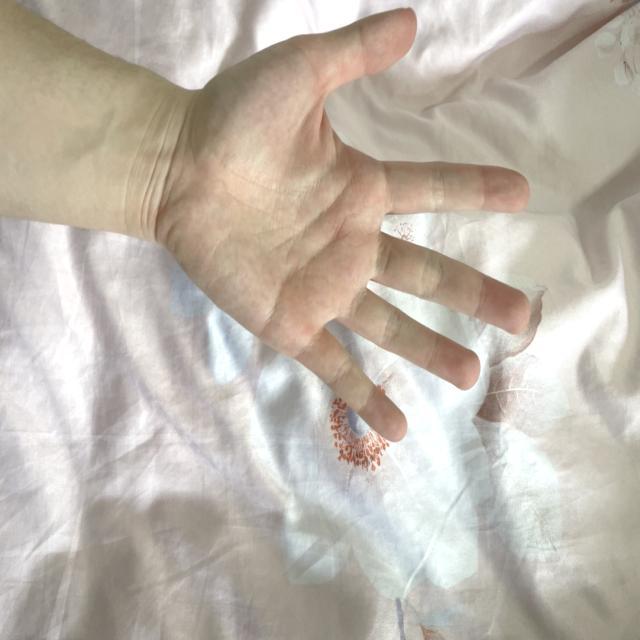no_glove: (123, 1, 576, 478)
